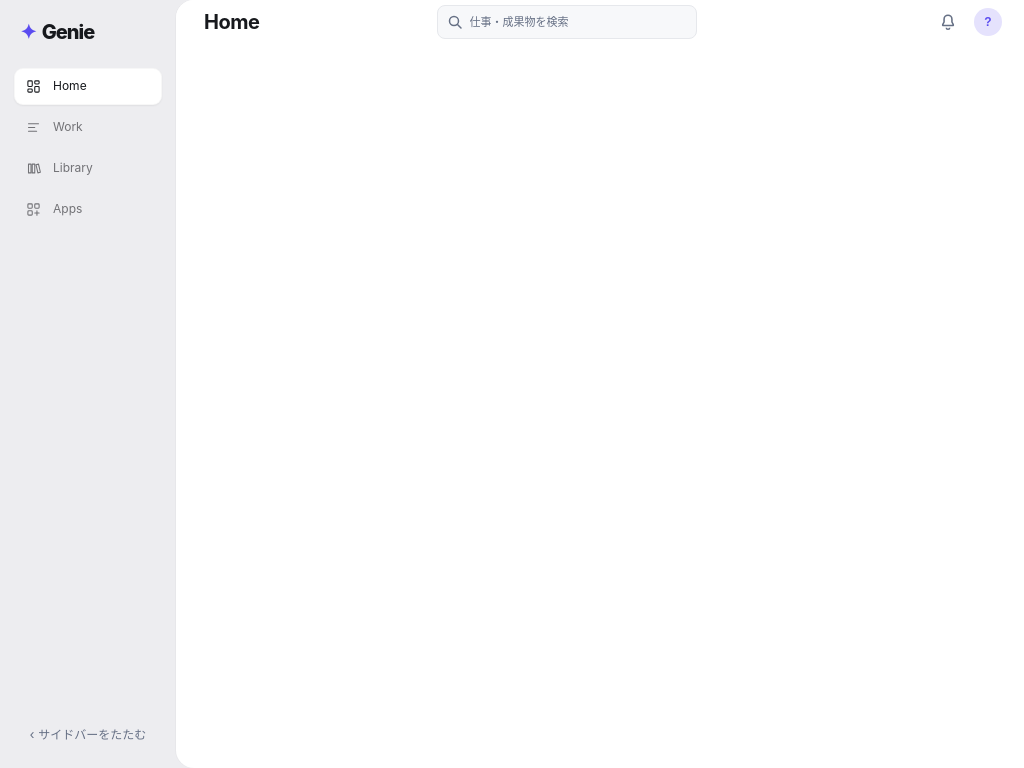
top bar (§7.1) › says it is quiet when there is nothing to attend to
Click the button named "通知" at (948, 22), box x1=930 y1=0 x2=966 y2=44
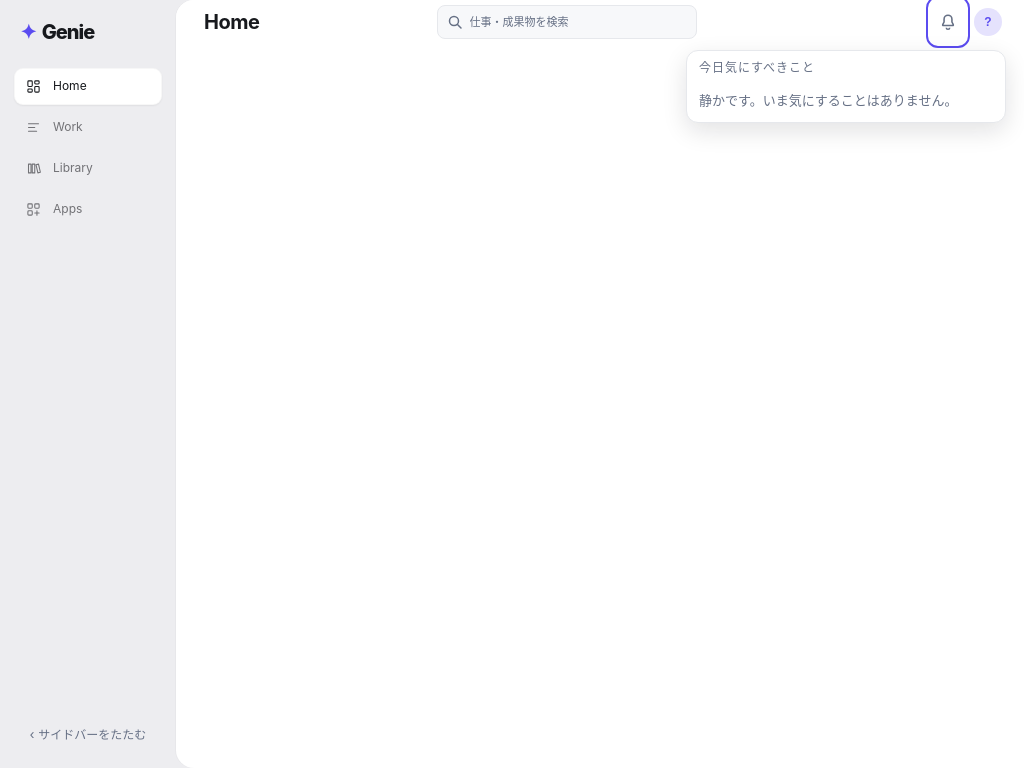
Now the text "静かです。いま気にすることはありません。" is shown, box x1=699 y1=92 x2=958 y2=108
